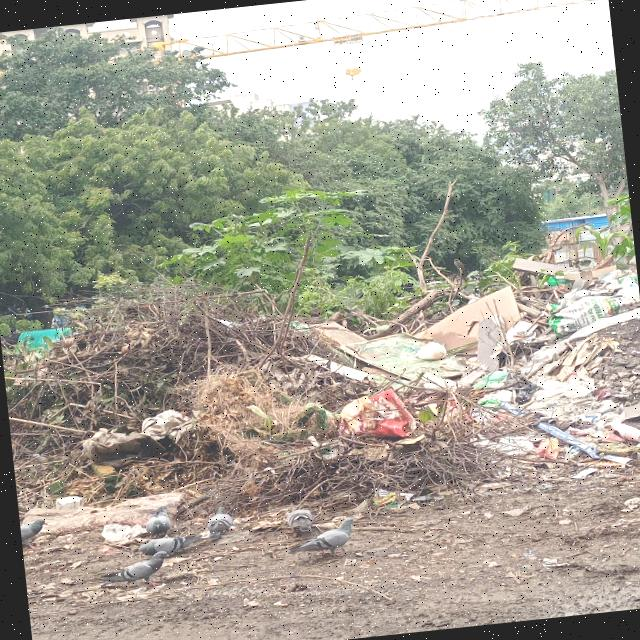garbage: (11, 231, 640, 546)
